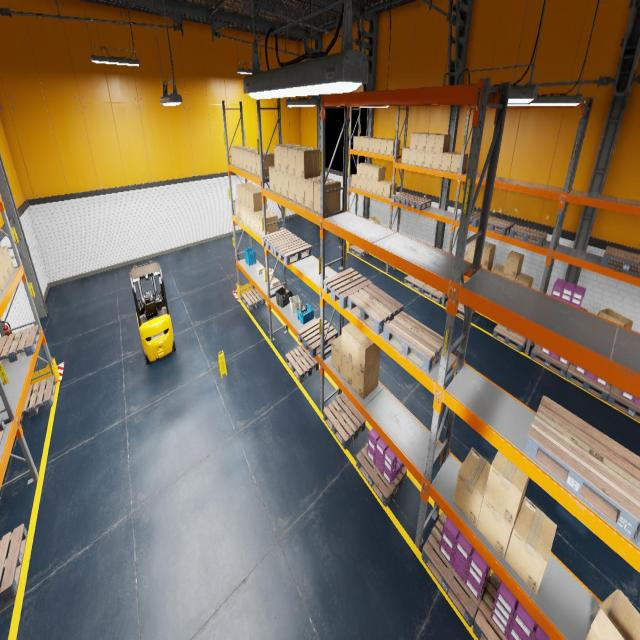box: (504, 496, 556, 594), (484, 450, 529, 527), (452, 447, 490, 527), (585, 588, 640, 640), (477, 497, 522, 558), (352, 332, 380, 374), (352, 362, 379, 399), (314, 179, 340, 214), (304, 176, 330, 210), (341, 322, 361, 363), (295, 148, 320, 179), (597, 308, 633, 329), (288, 146, 310, 176), (280, 145, 303, 173), (274, 143, 295, 171), (503, 251, 524, 277), (256, 152, 274, 177), (254, 209, 272, 234), (259, 212, 278, 235), (331, 335, 342, 374), (249, 189, 267, 212), (251, 151, 268, 175), (246, 150, 264, 172), (467, 238, 485, 260), (240, 184, 257, 207), (341, 352, 352, 386), (238, 147, 255, 169), (244, 186, 261, 208), (2, 245, 14, 275), (481, 242, 496, 266), (450, 153, 468, 173), (234, 146, 250, 167), (242, 148, 257, 170), (434, 134, 451, 152), (441, 152, 457, 171), (0, 251, 10, 281), (237, 183, 252, 203), (516, 272, 534, 288), (425, 133, 440, 151), (231, 146, 245, 165), (296, 177, 305, 206), (417, 132, 431, 150), (288, 174, 296, 202), (386, 140, 400, 156), (281, 172, 289, 198), (268, 166, 276, 192), (377, 180, 390, 196), (384, 181, 396, 198), (410, 132, 422, 149), (372, 166, 385, 181), (275, 169, 282, 195), (374, 138, 386, 153), (432, 152, 442, 170), (367, 164, 378, 180), (380, 139, 391, 154), (0, 262, 6, 289), (357, 162, 367, 178), (491, 264, 504, 276), (424, 151, 433, 168), (401, 147, 410, 164), (416, 150, 425, 166), (362, 164, 372, 178), (369, 138, 379, 152), (363, 137, 373, 151), (503, 273, 520, 281), (409, 149, 417, 165), (358, 136, 367, 150), (353, 136, 362, 150), (250, 210, 255, 230), (369, 216, 380, 225), (480, 262, 492, 270), (238, 201, 243, 220), (264, 276, 273, 286), (265, 268, 274, 278), (372, 180, 378, 194), (366, 179, 372, 193), (356, 176, 362, 190), (270, 278, 279, 287), (361, 178, 367, 191), (246, 207, 250, 226), (242, 204, 246, 223), (235, 198, 239, 217), (256, 266, 265, 274), (262, 268, 270, 276), (352, 174, 356, 188), (463, 251, 468, 260), (0, 243, 3, 255), (467, 258, 472, 262), (0, 284, 2, 293)
forklift: (129, 260, 176, 365)
pallets: (523, 395, 640, 539), (421, 512, 491, 627), (384, 311, 443, 373), (356, 442, 407, 507), (472, 572, 514, 639), (348, 284, 403, 334), (323, 393, 365, 449), (0, 524, 28, 603), (323, 268, 372, 309), (566, 362, 610, 401), (20, 375, 56, 422), (0, 325, 41, 365), (297, 317, 338, 357), (530, 343, 570, 377), (285, 344, 319, 382), (607, 385, 640, 421), (601, 246, 640, 275), (273, 237, 312, 265), (493, 323, 527, 352), (262, 228, 297, 254), (509, 224, 547, 247), (478, 215, 514, 235), (551, 295, 587, 311), (242, 288, 266, 311), (445, 301, 475, 318), (421, 284, 447, 303), (456, 210, 480, 227), (404, 275, 426, 292), (391, 192, 416, 205), (406, 197, 431, 210), (349, 245, 368, 257), (0, 416, 6, 444), (634, 522, 640, 547), (416, 240, 433, 247), (436, 248, 452, 255), (358, 215, 368, 219)
